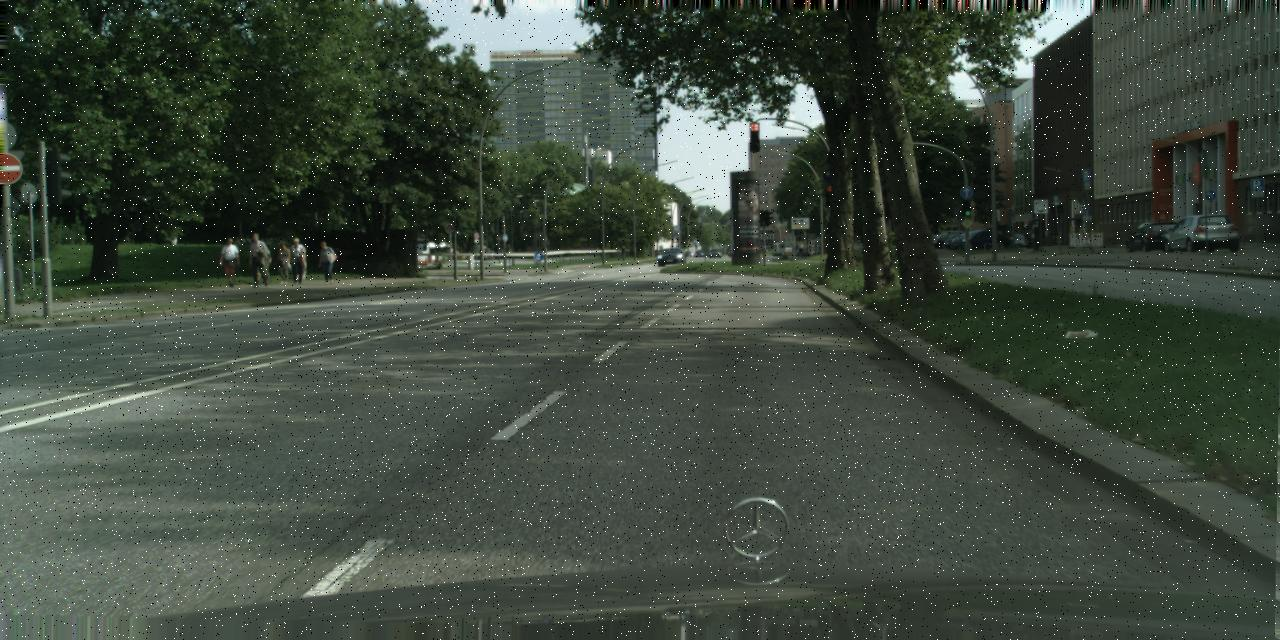ped: (247, 232, 269, 286), (219, 236, 240, 288), (286, 237, 306, 284), (253, 239, 271, 283), (317, 240, 334, 284), (274, 242, 290, 284), (796, 241, 803, 259), (620, 245, 626, 261)
